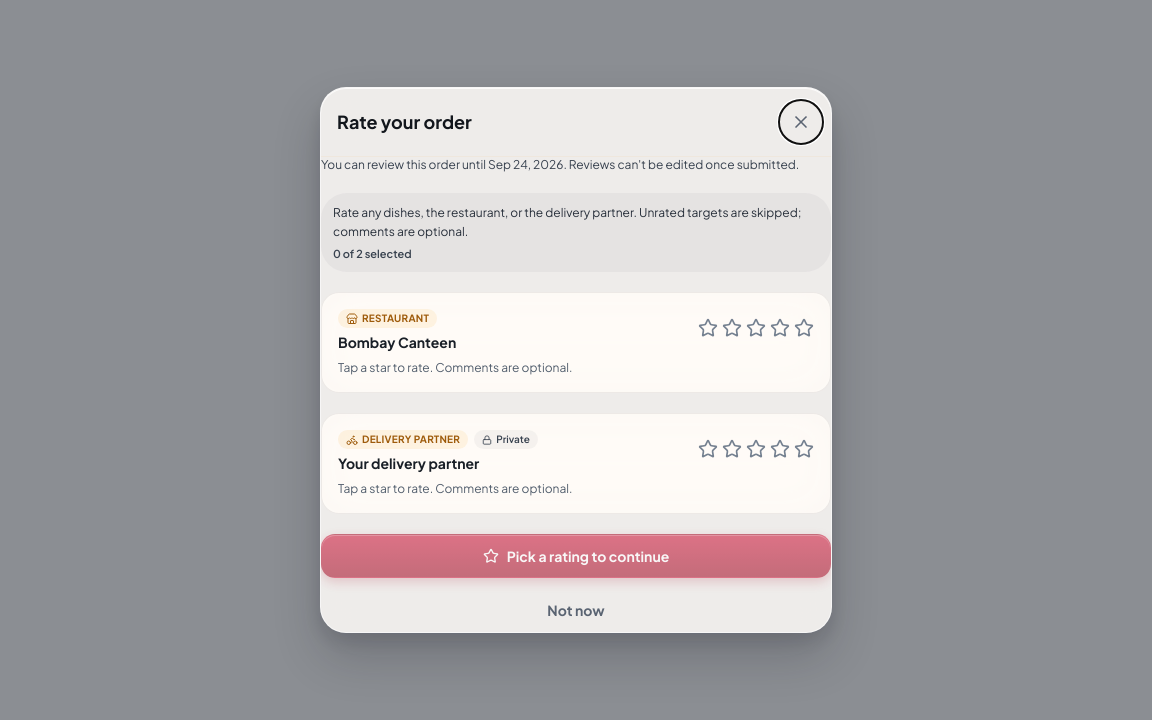
Test: RateOrderModal › treats an already-reviewed conflict as a refresh, not an error
The image size is (1152, 720).
Expected: the text "Bombay Canteen" is shown, [338,332,456,352]
Click the radio button named "5 stars" in the row of "Bombay Canteen": {"x": 804, "y": 331} [794,318,814,344]
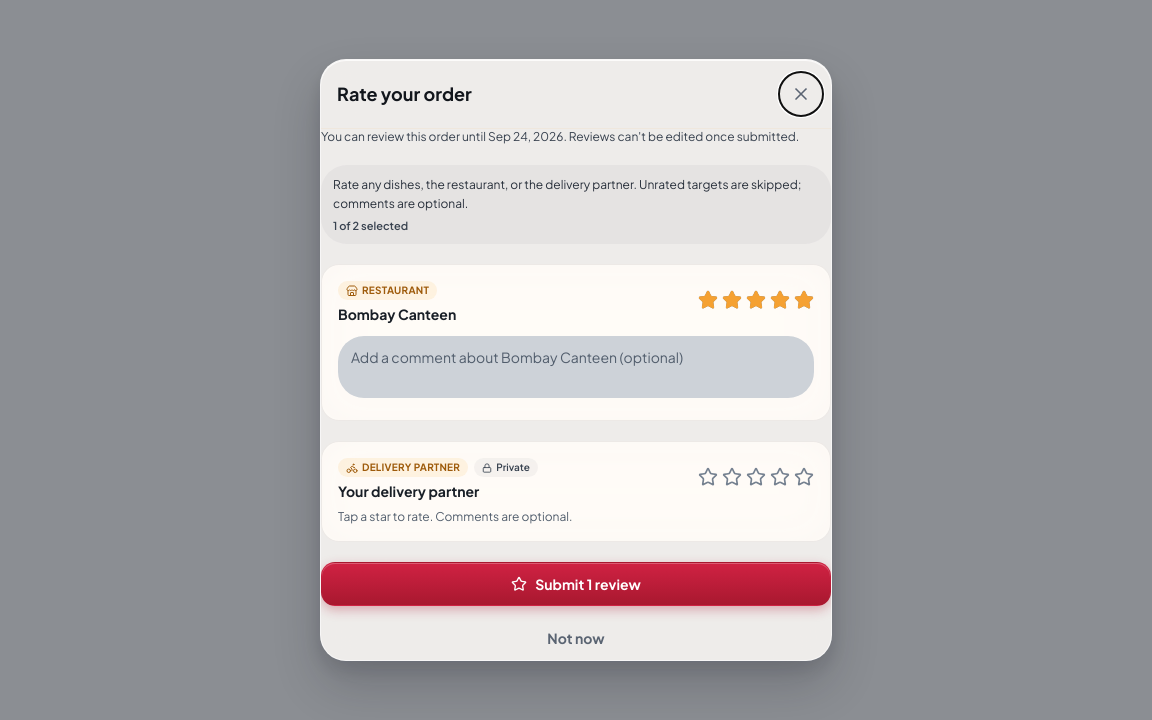
Click the button "Submit 1 review": {"x": 576, "y": 584} [321,562,831,606]
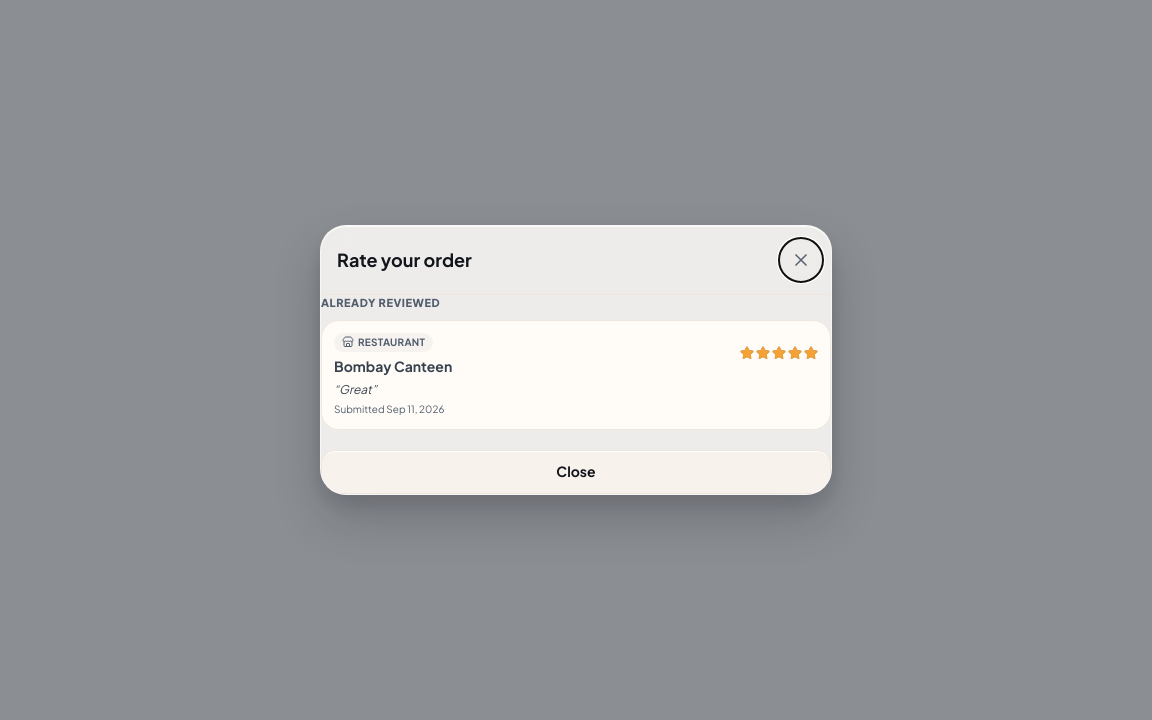
Expected: the heading "Already reviewed" is shown, [321,296,440,309]
Expected: the text "“Great”" is shown, [334,382,377,397]
